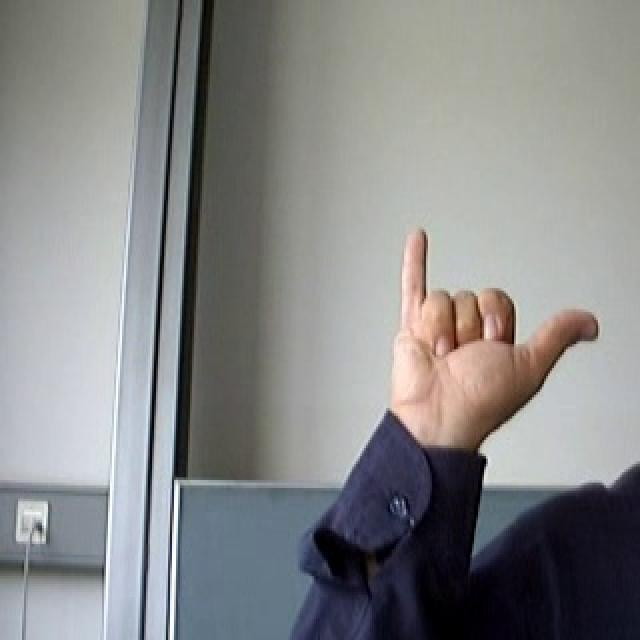Y: (376, 219, 608, 448)
